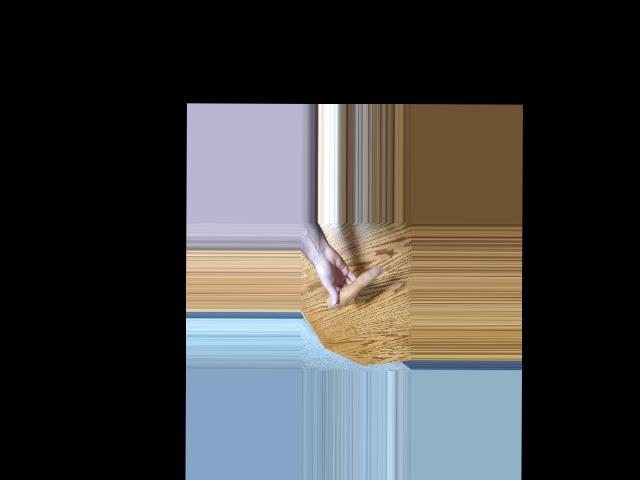sweet_potato: (327, 264, 382, 306)
